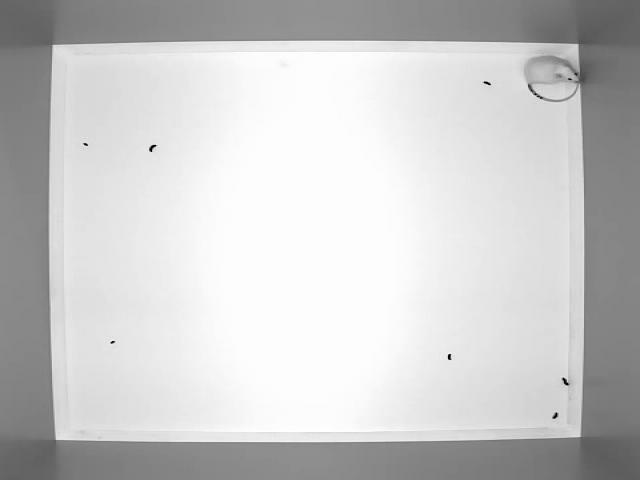Tikus: (518, 50, 583, 108)
